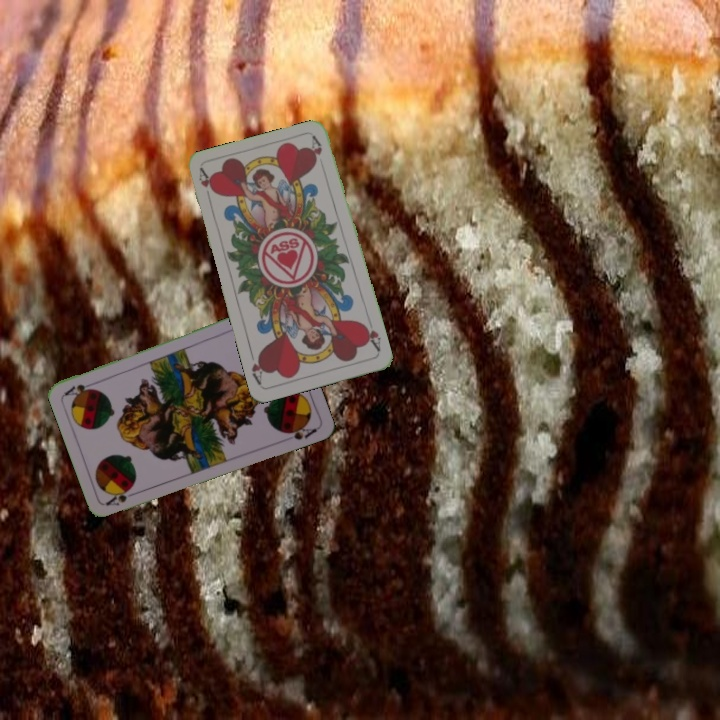HA: (359, 315, 383, 354), (195, 165, 218, 205)
SA: (102, 485, 141, 509)
